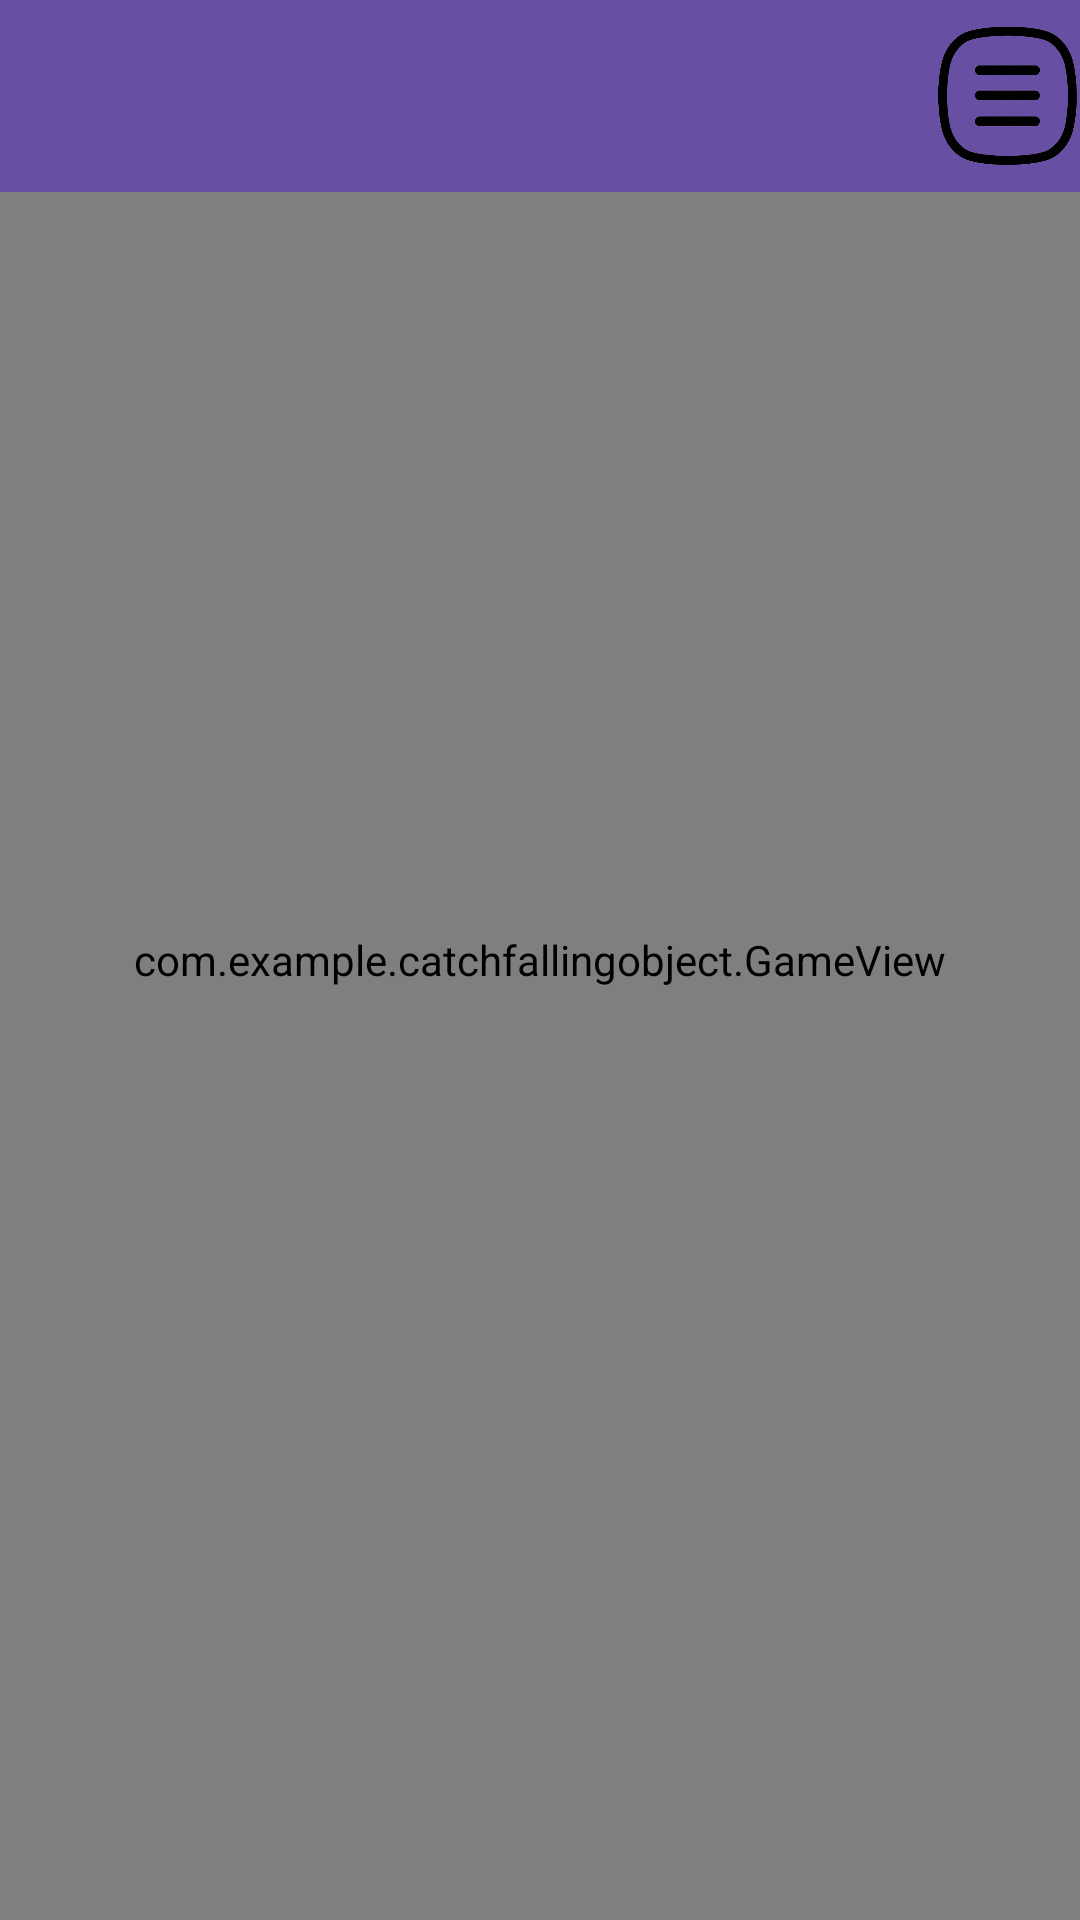

Icon bounding boxes for this 1080x1920 phone screenshot, format (x1,y1,x2,y2):
Menu: (938,27,1077,165)
